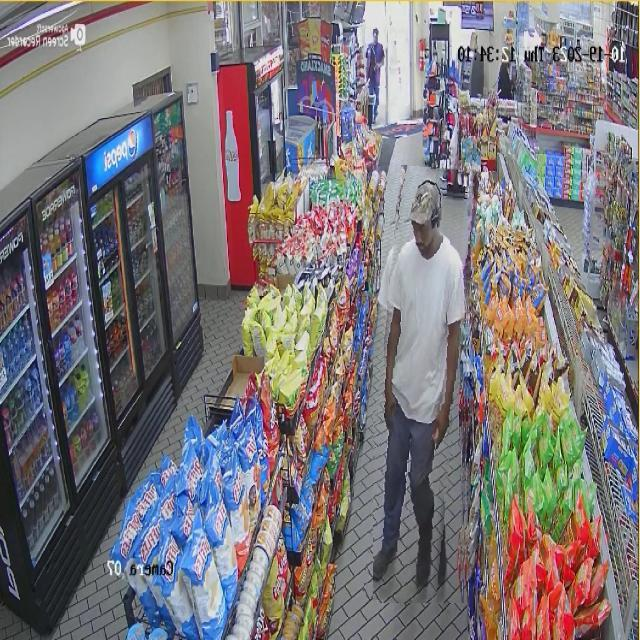Normal: (373, 167, 470, 603), (357, 20, 388, 133)
